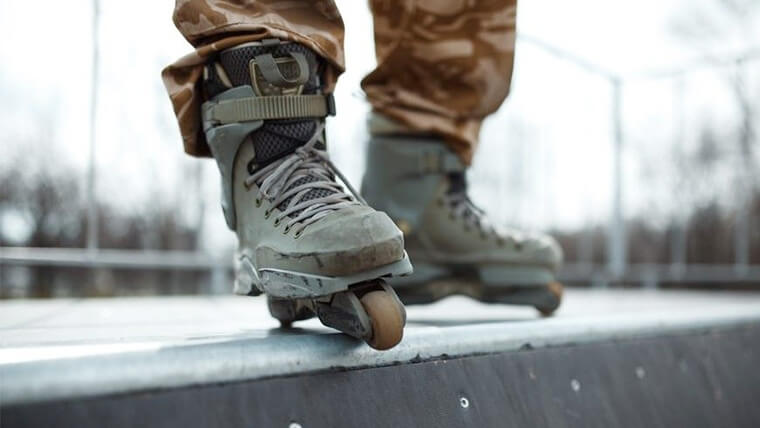roller_blade: (195, 50, 408, 350), (371, 142, 565, 313)
